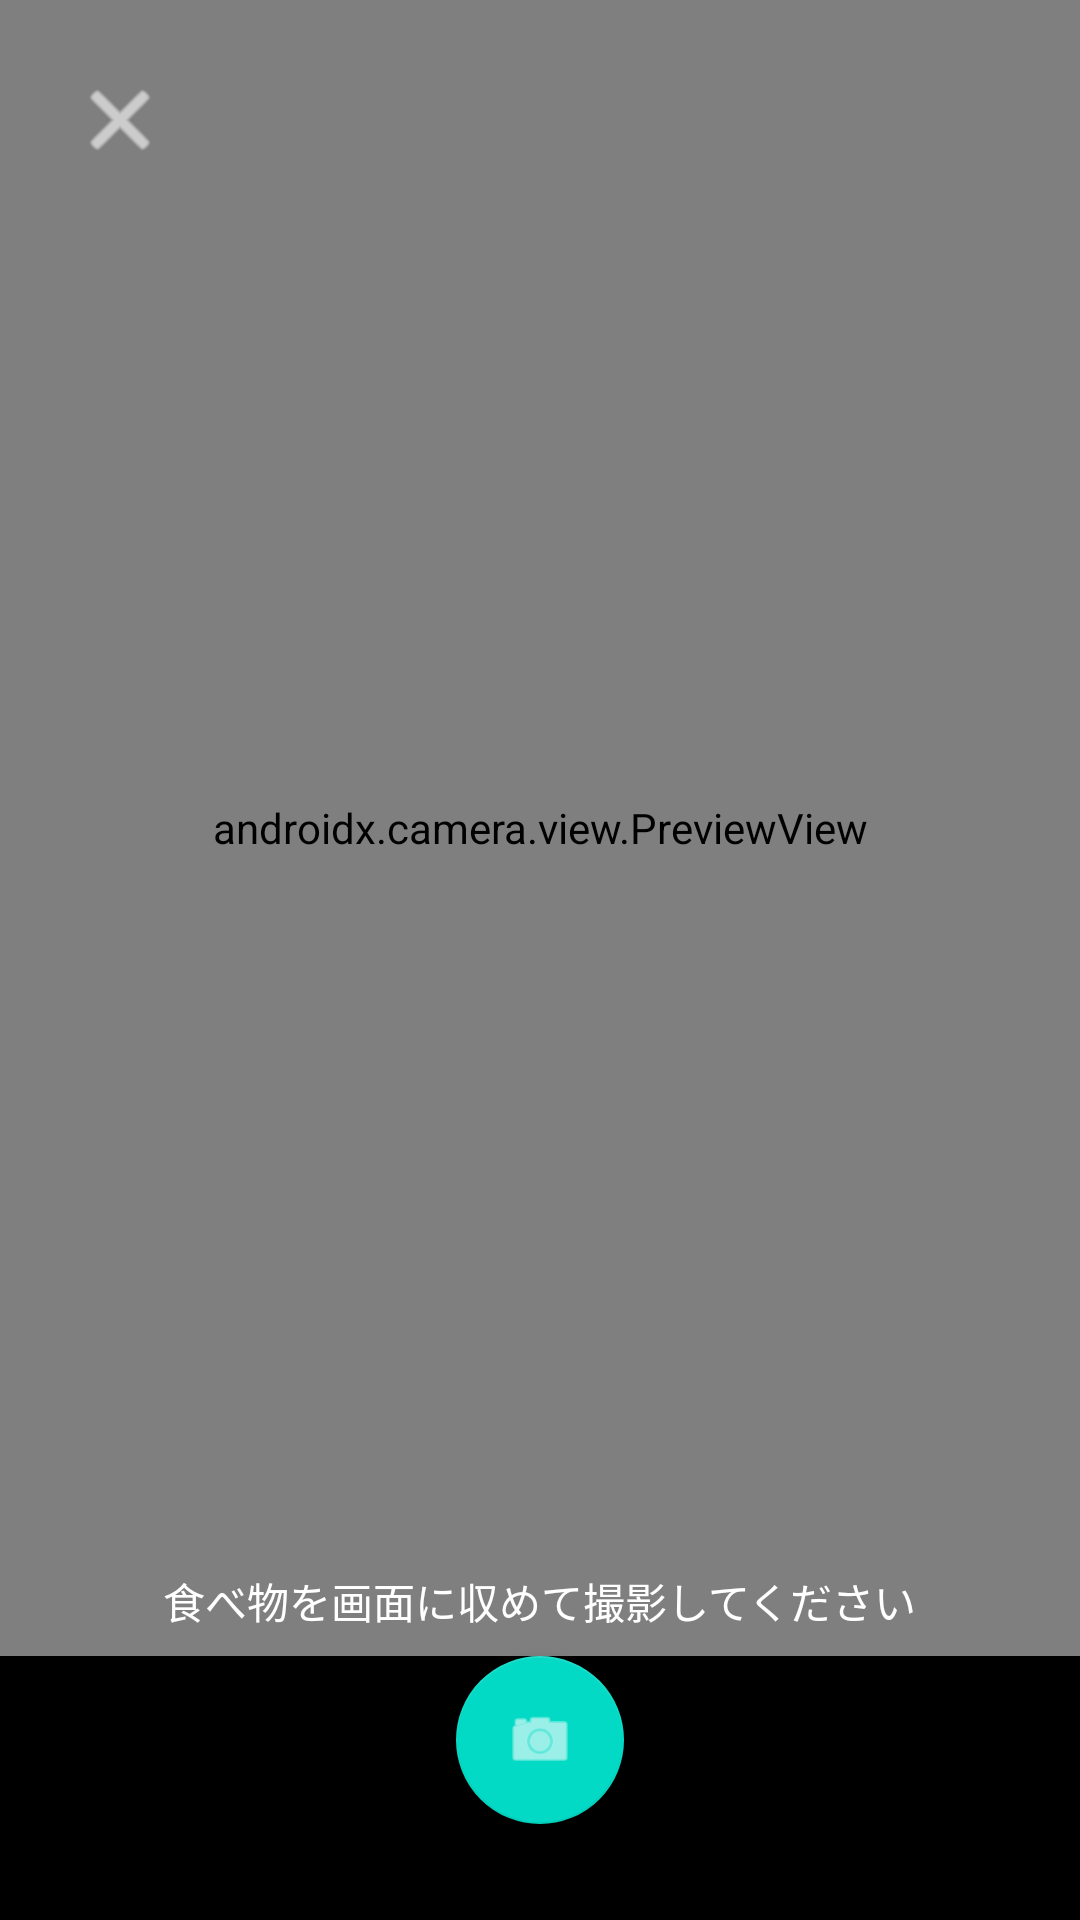

Icon bounding boxes for this 1080px×1920px phone screenshot, format (x1, y1, x2, y2):
戻る: (90, 90, 150, 150)
